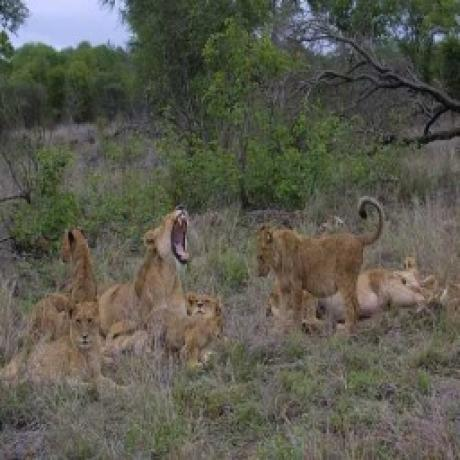Lion: (250, 190, 384, 330), (264, 254, 446, 321), (110, 209, 200, 341), (3, 300, 100, 378), (43, 220, 106, 300), (162, 288, 228, 358)
